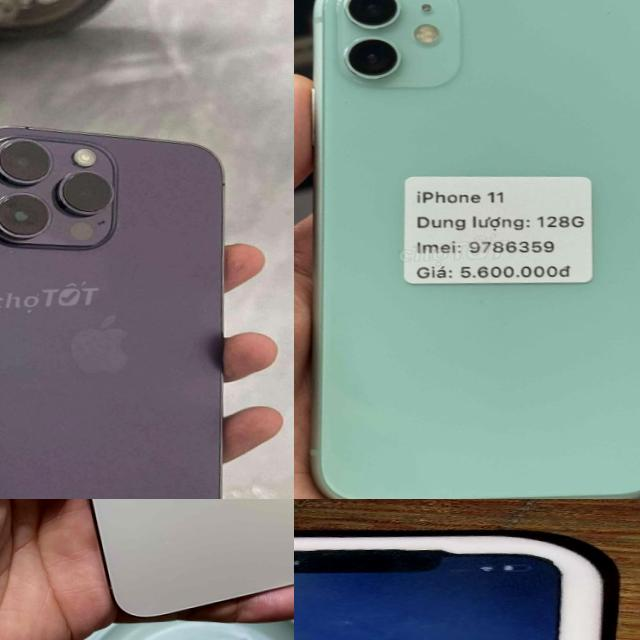gen_11: (294, 0, 640, 499)
gen_14: (0, 108, 239, 499), (294, 511, 626, 640), (16, 499, 294, 621)
